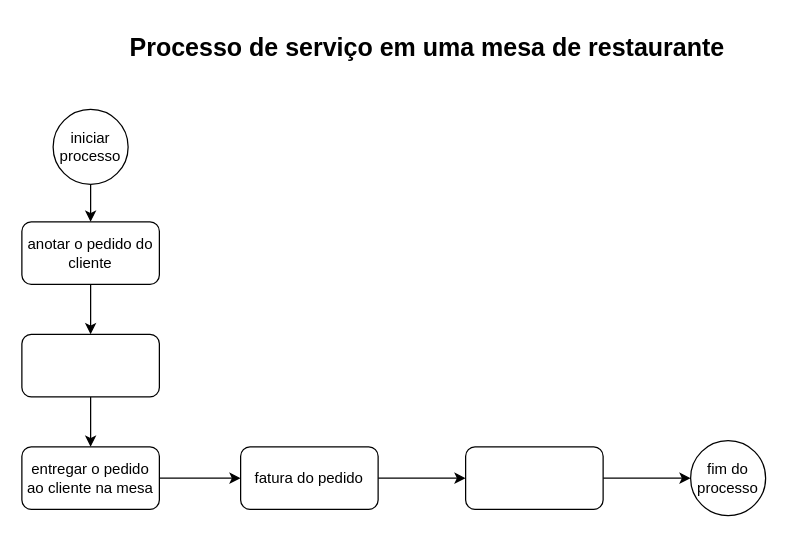
This 788x538 diagram has some shape labels left out. Here are the shapes that lost their labels. From the top down, the centre of each, then its label:
At (90,365): "ordem de preparo para a cozinha".
At (533,477): "pagamento do cliente".
